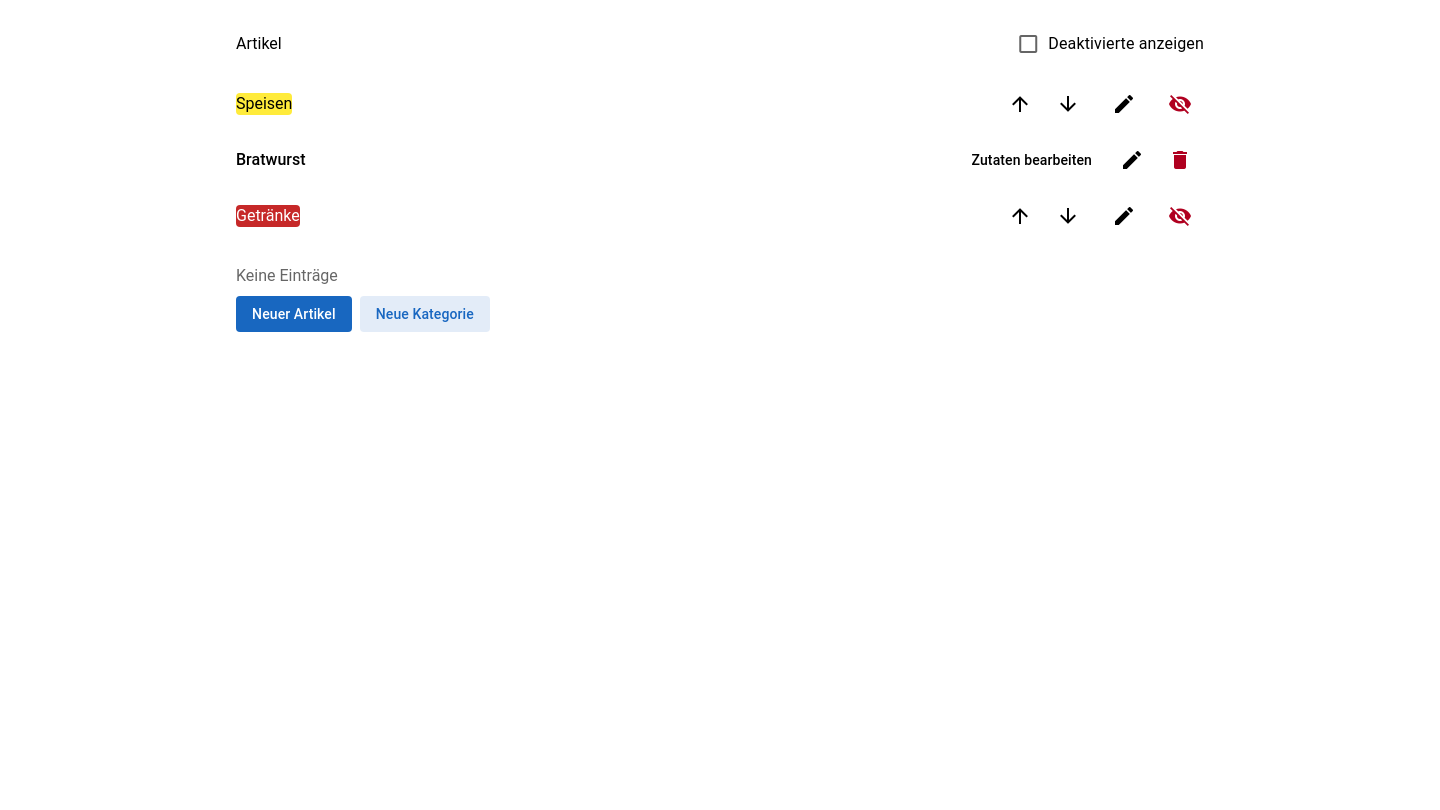
Scenario: adding an ingredient to the recipe of an article › assigns it with amount 1, shows it as a line and takes it out of the available list
This screenshot has width=1440, height=810.
Click the button with test id "edit-ingredients". click: (1032, 160)
box: 956,142 -> 1108,178
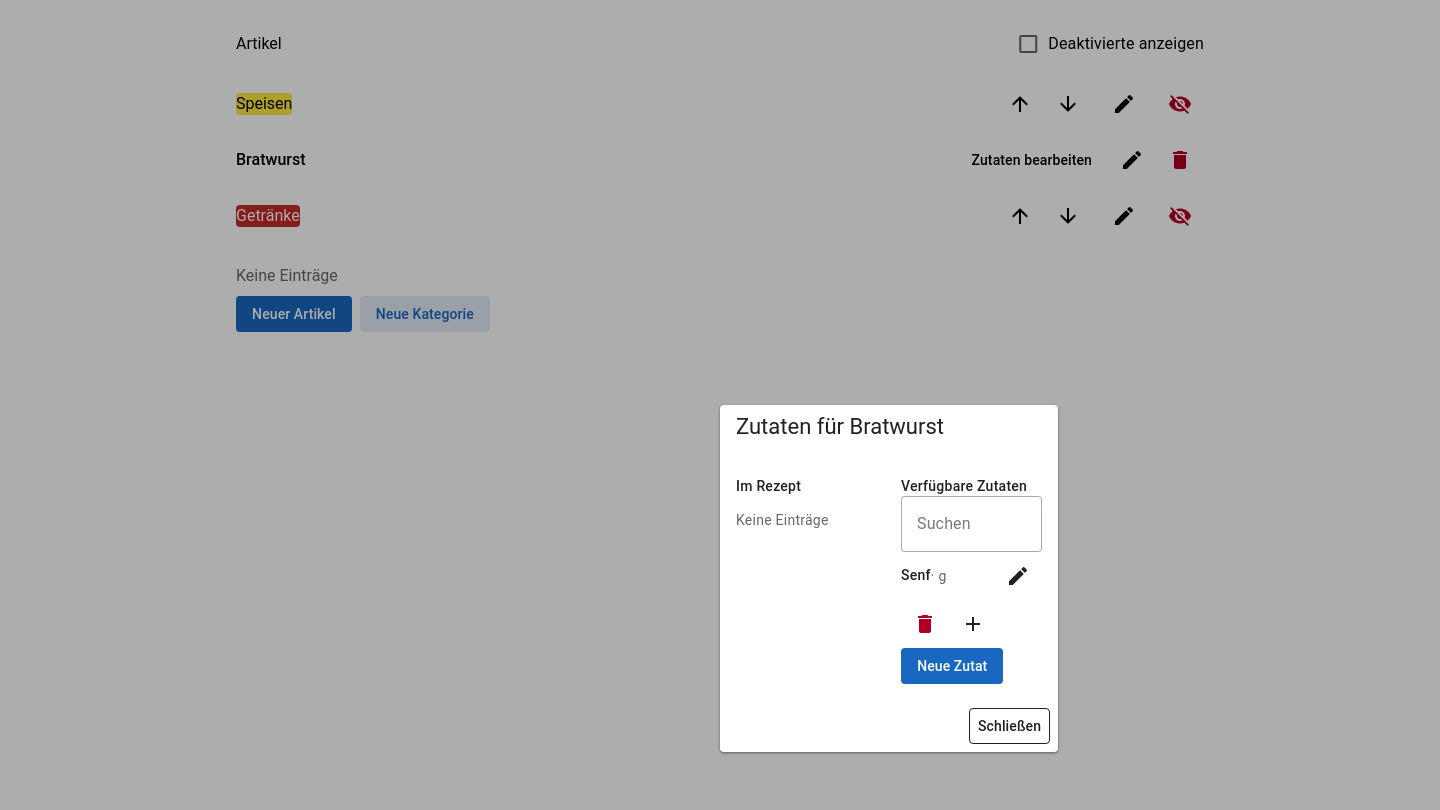
Expected: the element with test id "ingredient-search" is shown, 901,496 -> 1042,552
Click the 3rd button. click: (973, 624)
box: 949,600 -> 997,648
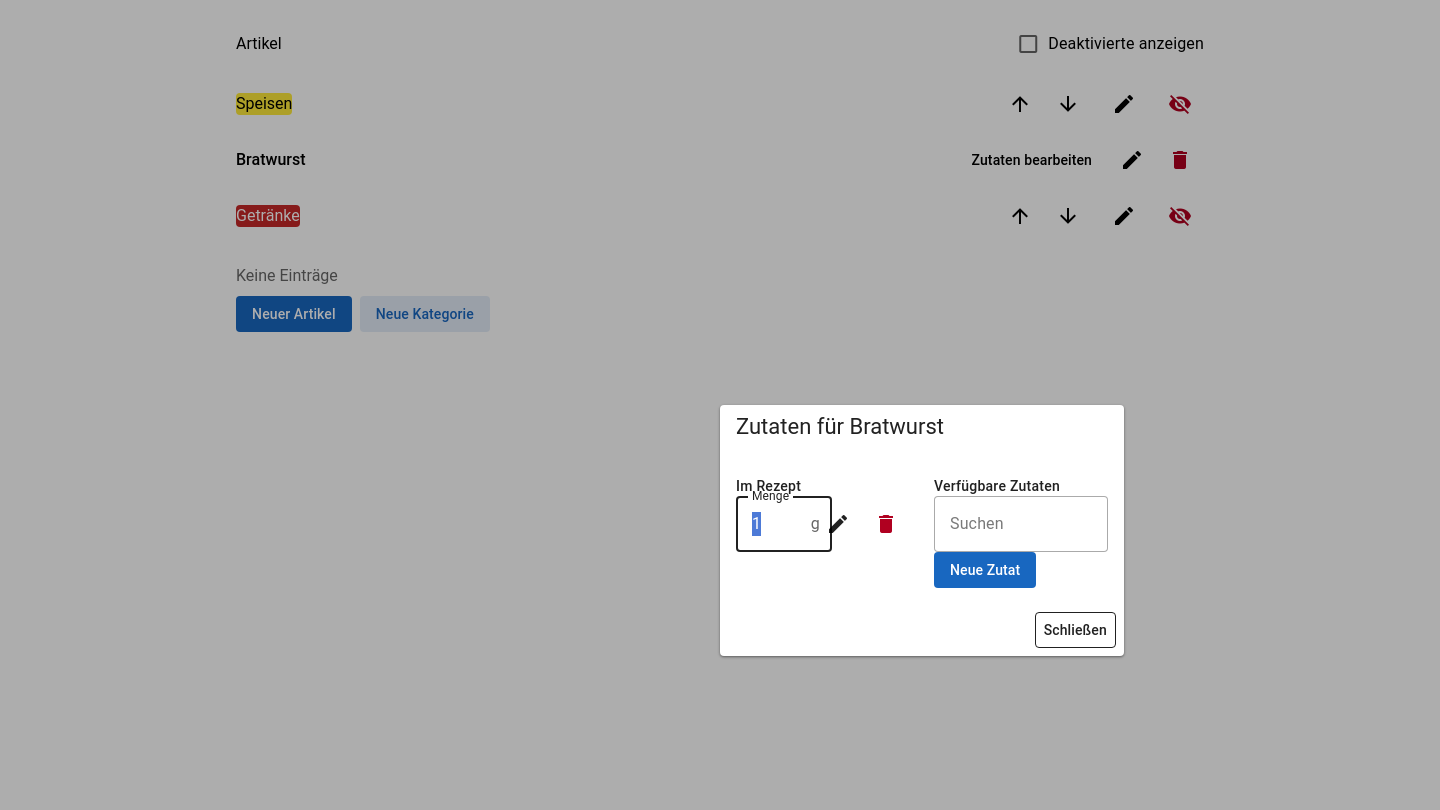
Expected: the field labelled "Menge" holds "1", 736,496 -> 811,552
